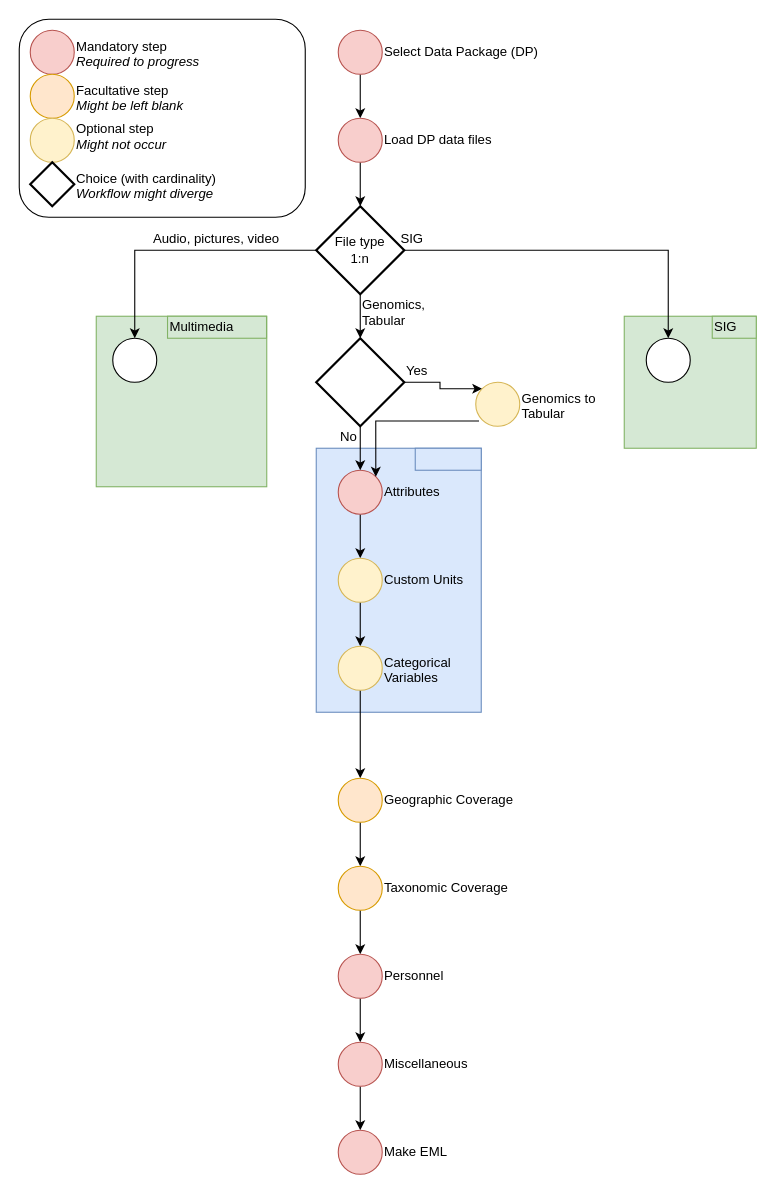
Some shapes in this 776 by 1194 pixel diagram are drawn without their labels. Here are the shapes that lost their labels. From the top down, the centre of each, then its label:
(360,382): Genomics? 1
(447,458): Tabular
